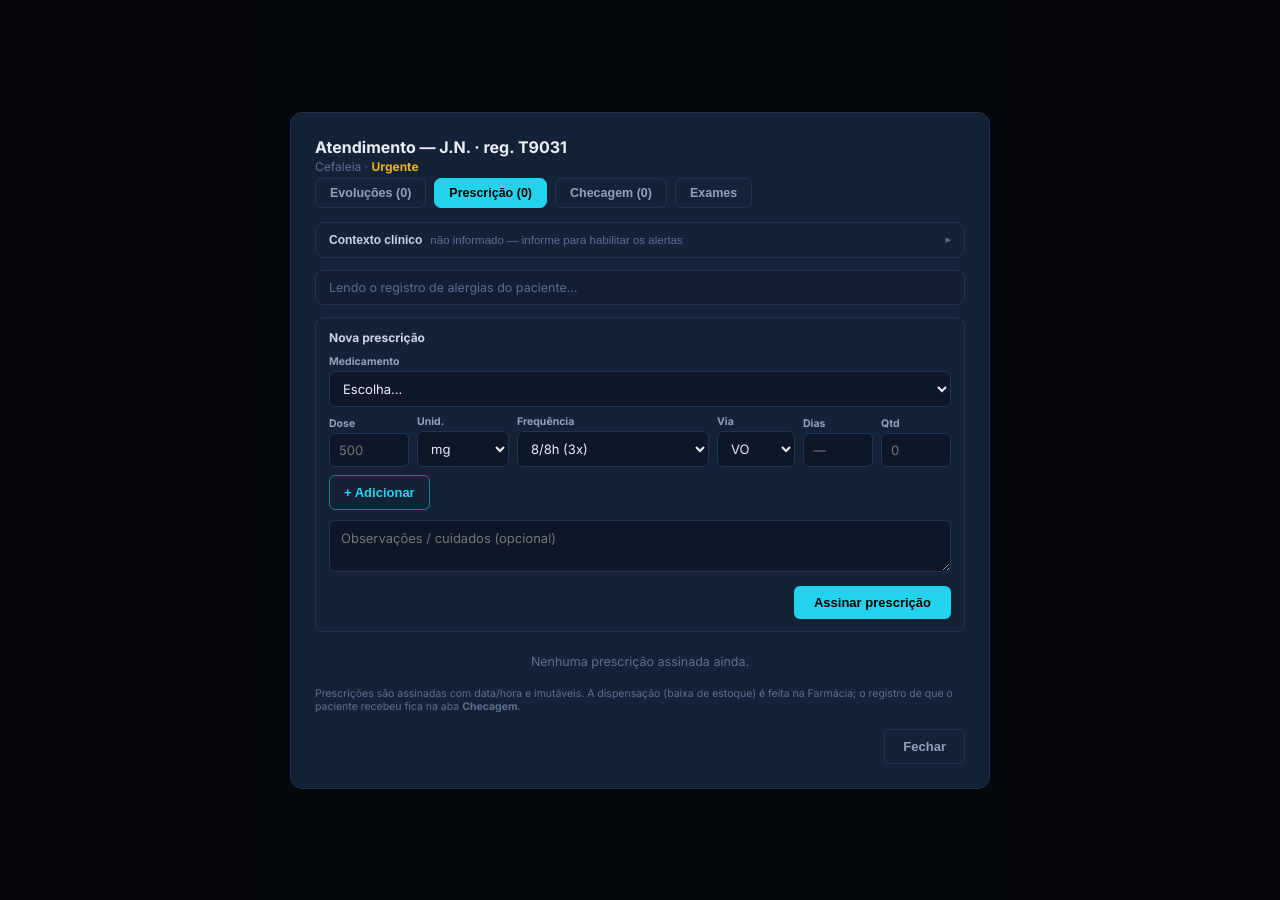
Scenario: 🔴 o rascunho da prescrição não morre ao trocar de aba › a observação digitada também sobrevive
Type "manter em jejum" into the text box with placeholder "Observações / cuidados (opcional)". click: x=640, y=546
box: [329, 520, 951, 572]
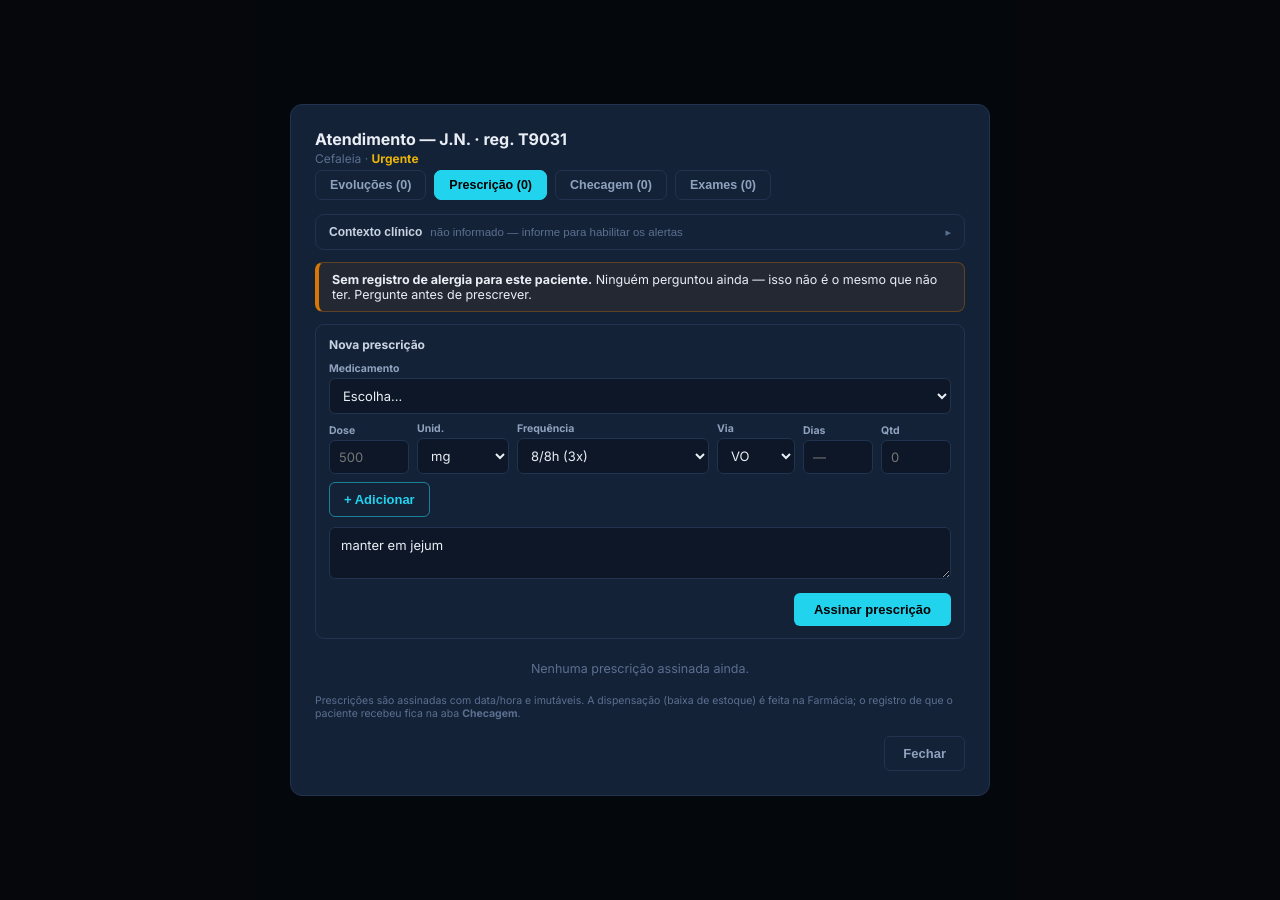
Click the button "Checagem (0)". click: x=611, y=185
box: [555, 170, 667, 200]
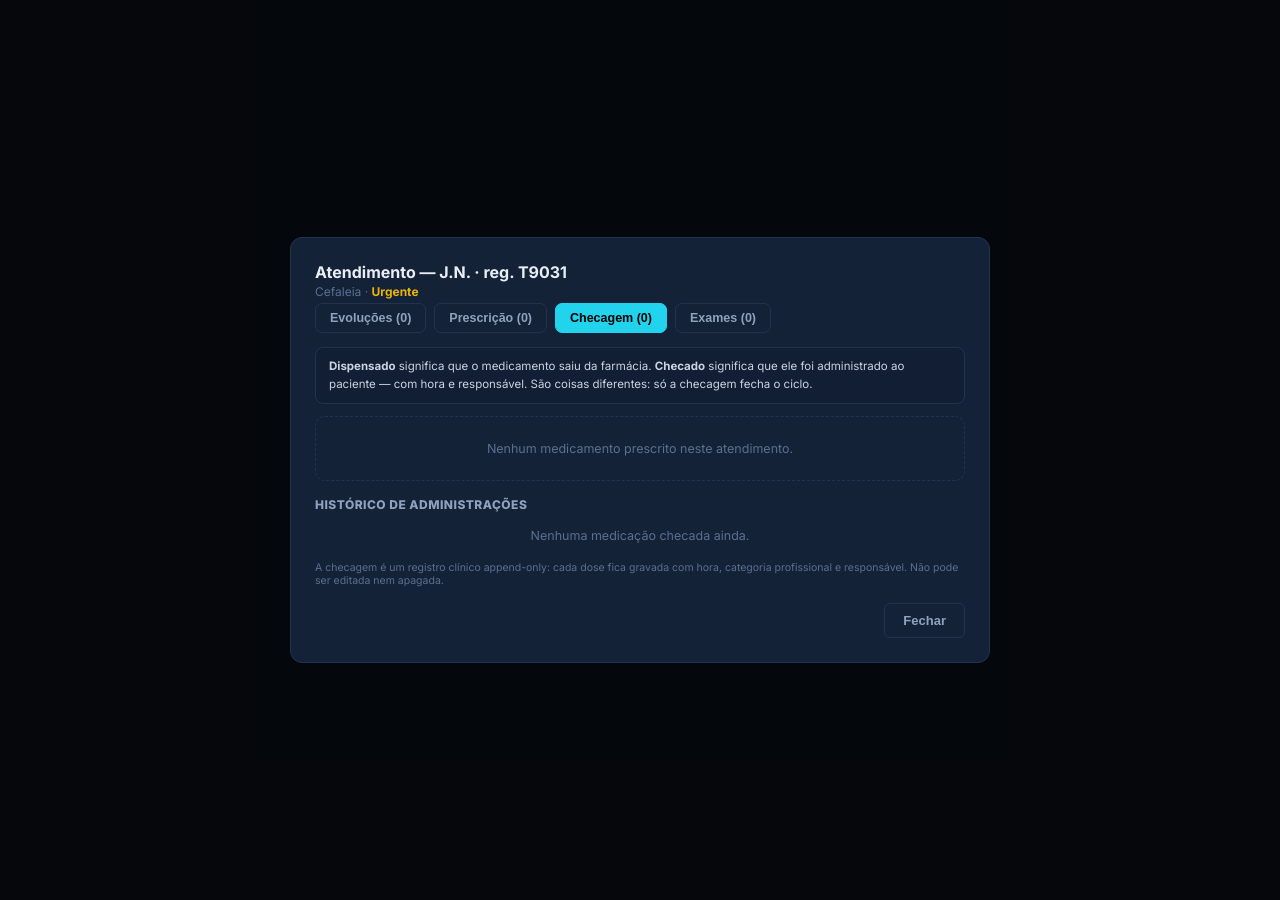
Click the button "Prescrição (0)". click: x=491, y=318
box: [434, 303, 547, 333]
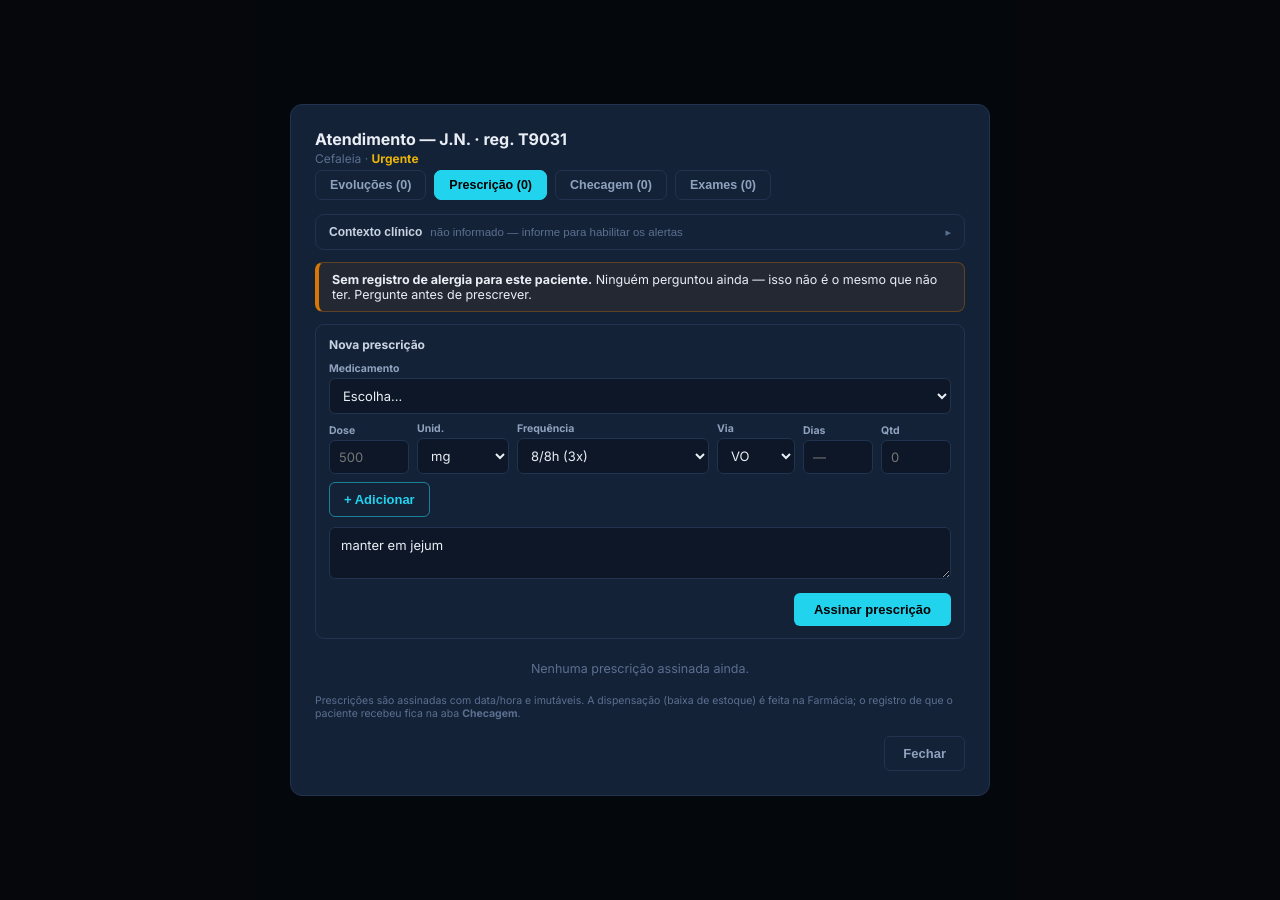
expect the text box with placeholder "Observações / cuidados (opcional)" holds "manter em jejum": met, box [329, 527, 951, 579]
